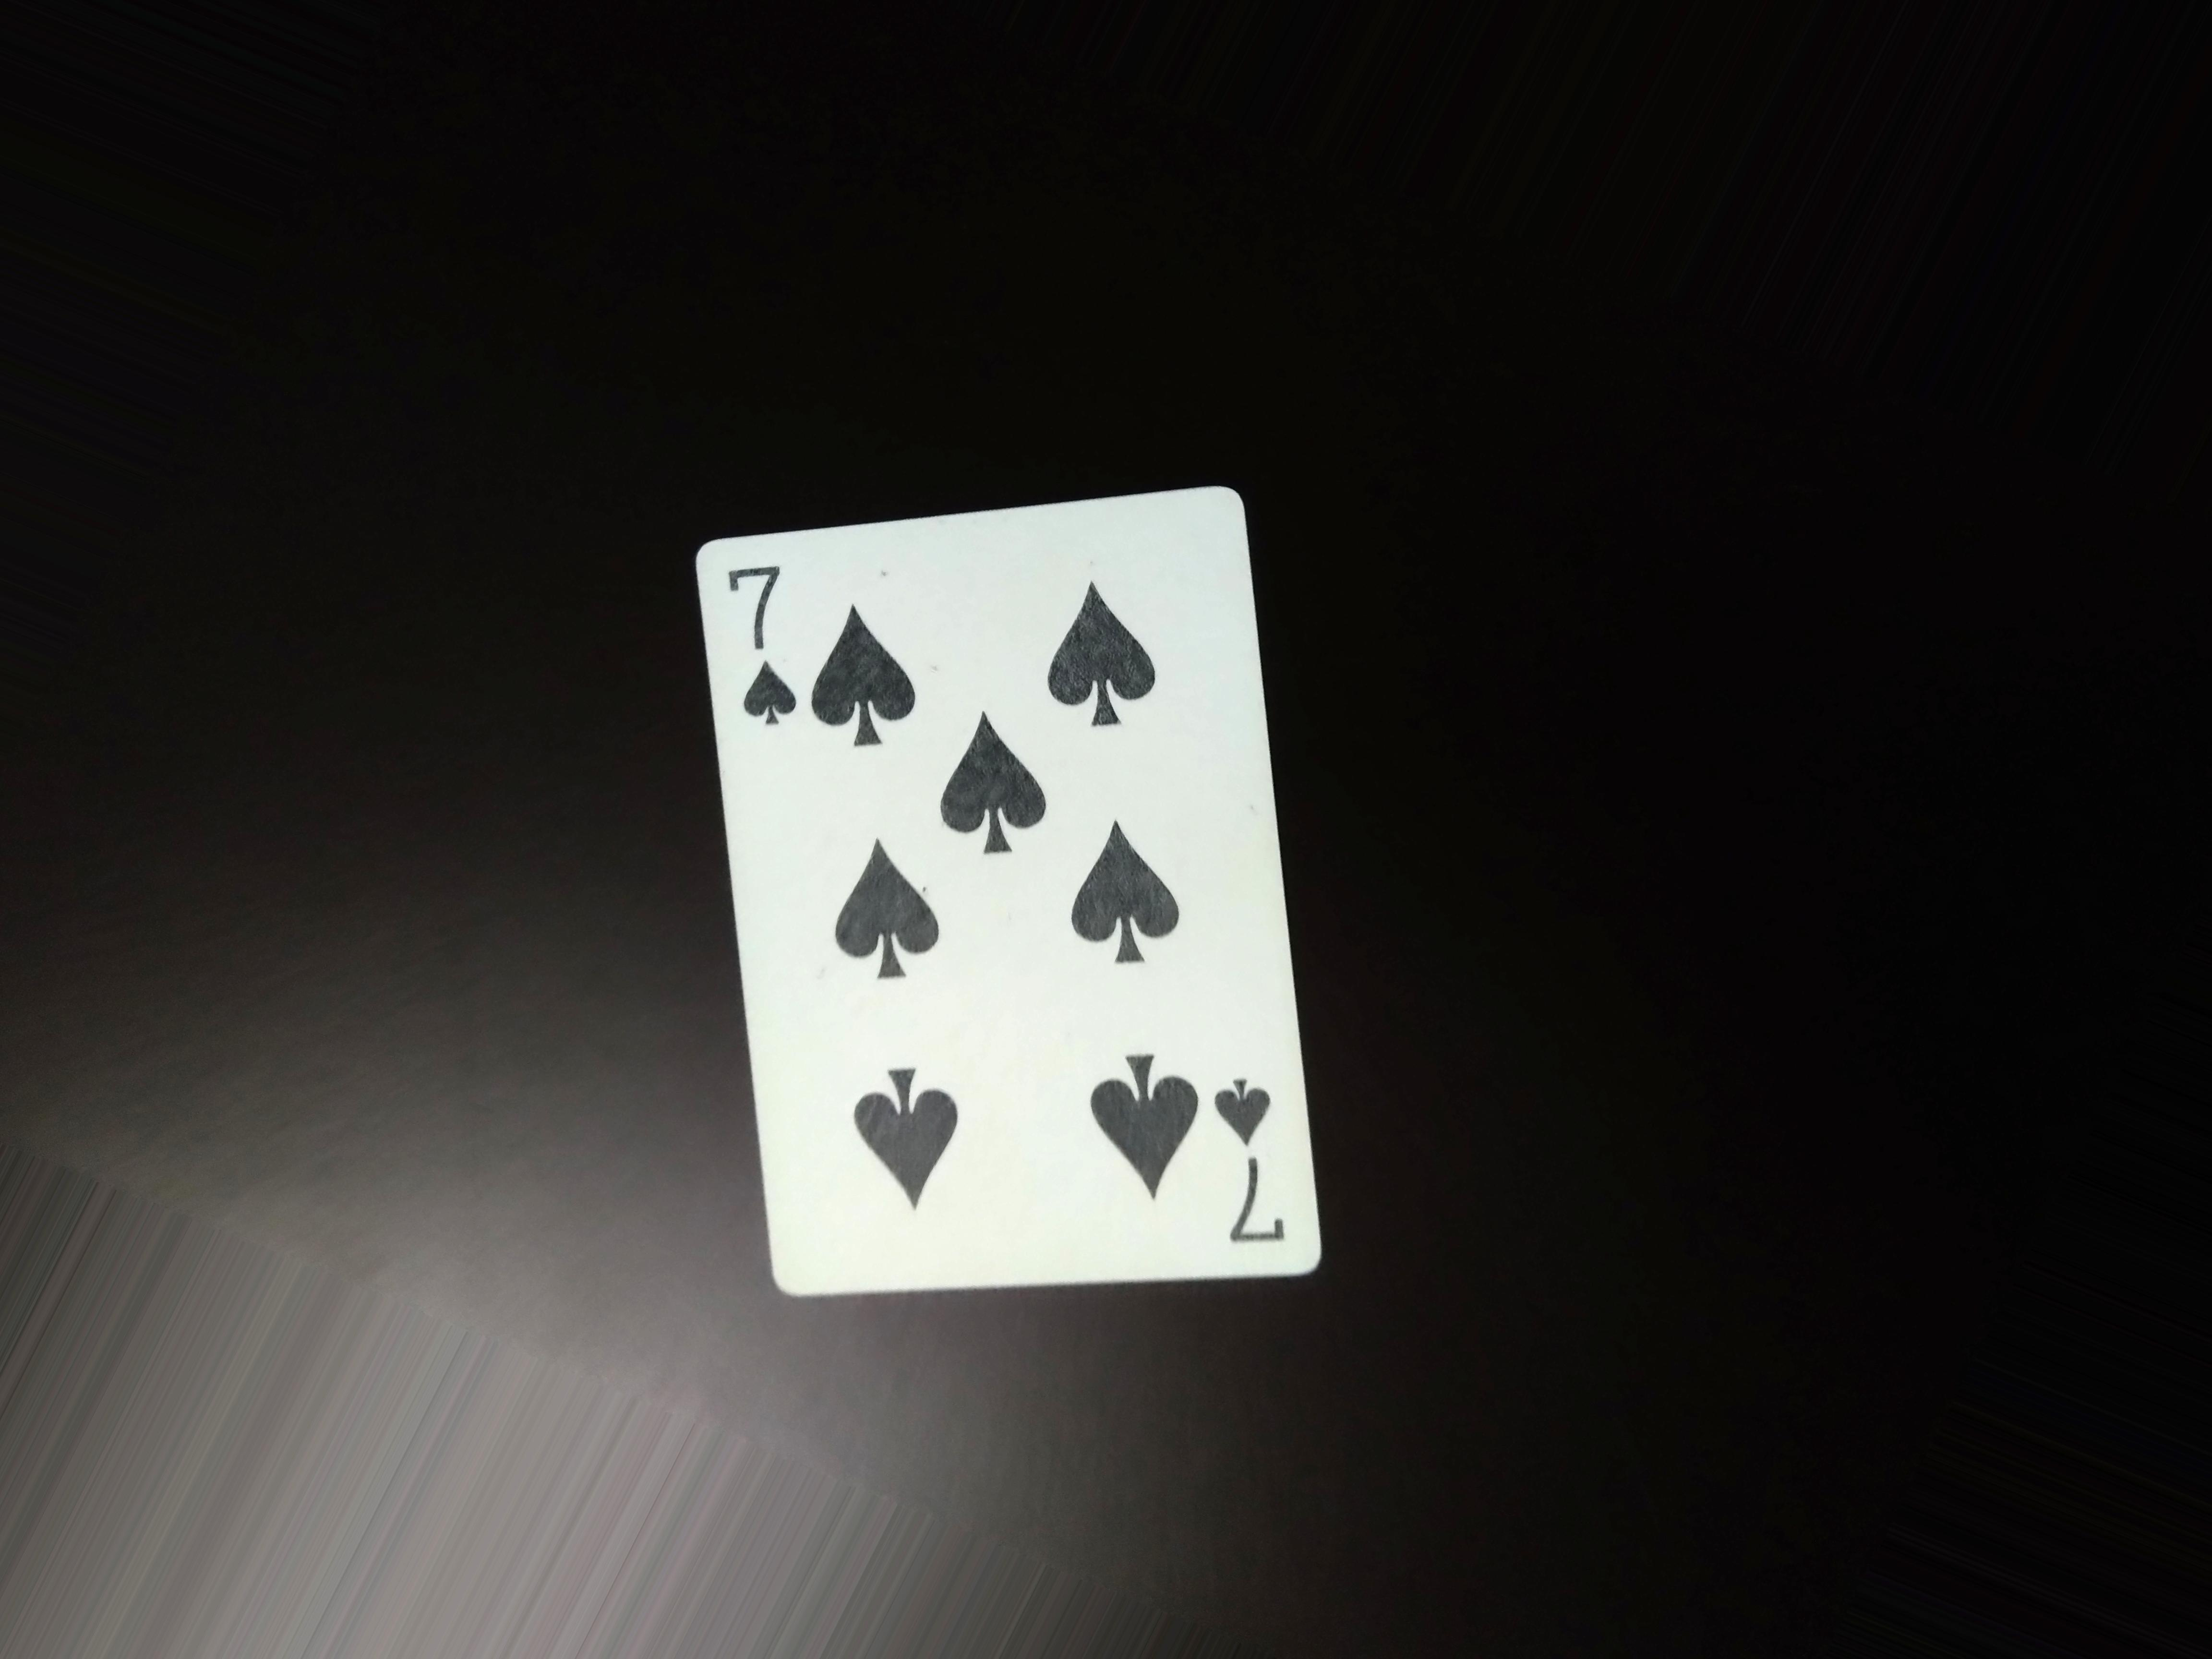7S: (733, 549, 791, 748)
